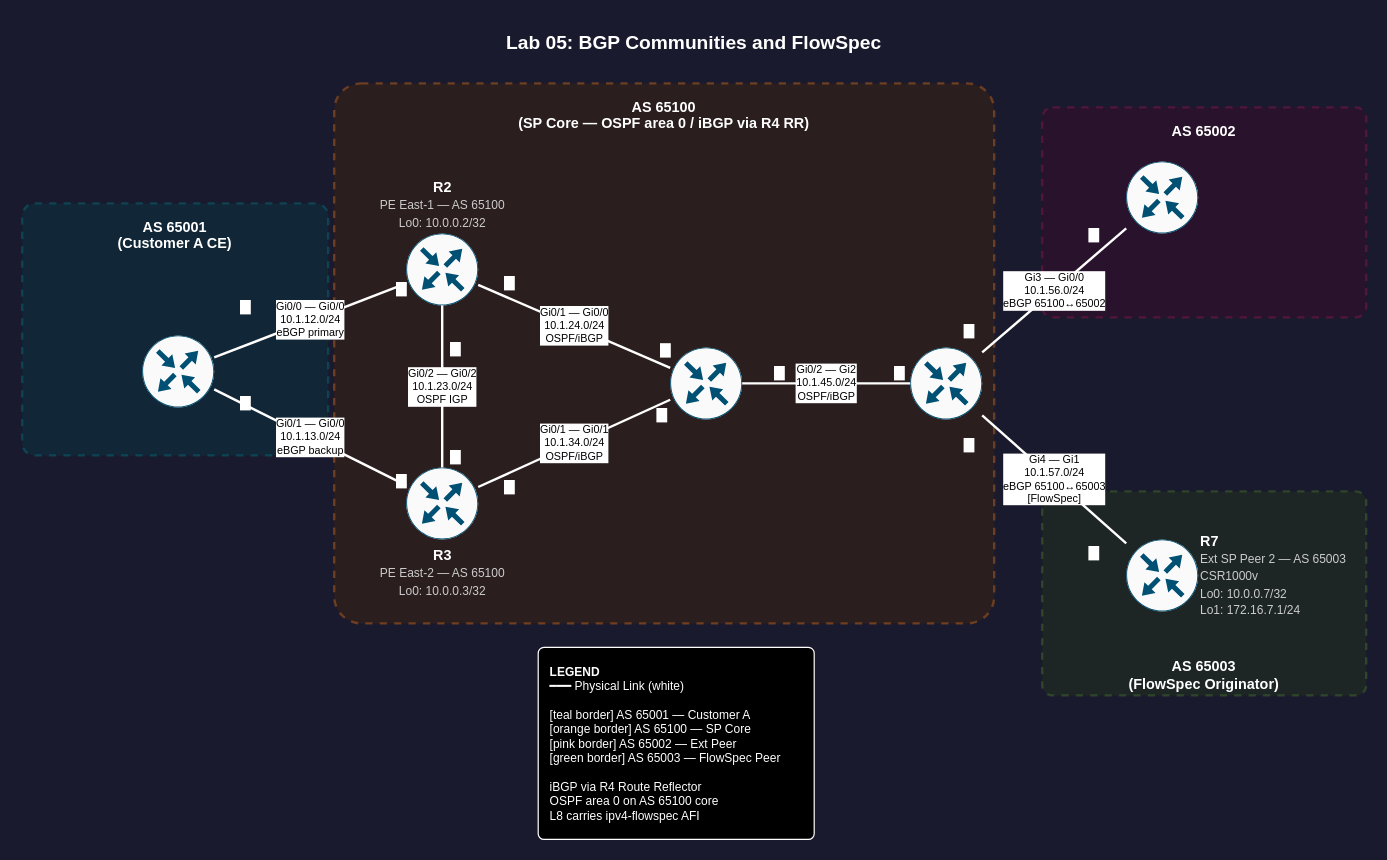
The diagram is 1387 pixels wide and 860 high, and some of its shapes have lost their labels. Each missing label, with the centre of its shape:
R1 CE — AS 65001 Lo0: 10.0.0.1/32 Lo1: 172.16.1.1/24: [177,370]
R4 P / Route Reflector — AS 65100 Lo0: 10.0.0.4/32: [705,382]
R5 PE West — AS 65100 CSR1000v Lo0: 10.0.0.5/32: [945,382]
R6 Ext SP Peer — AS 65002 IOSv Lo0: 10.0.0.6/32 Lo1: 172.16.6.1/24: [1161,196]
